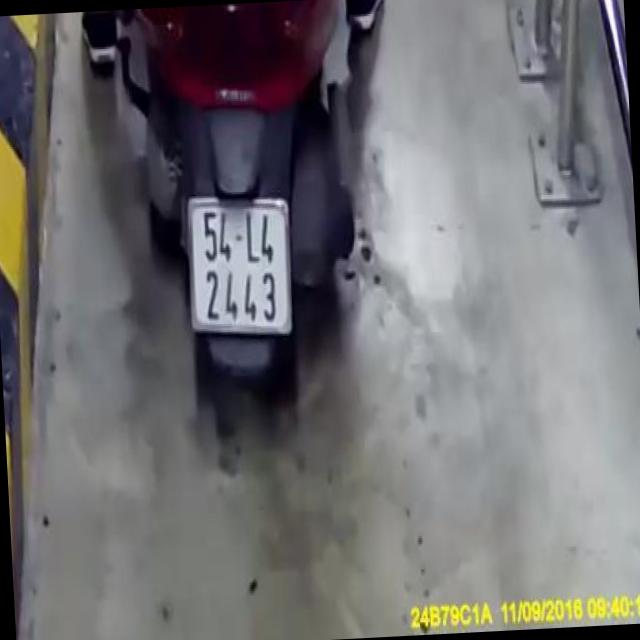LP: (182, 183, 298, 342)
